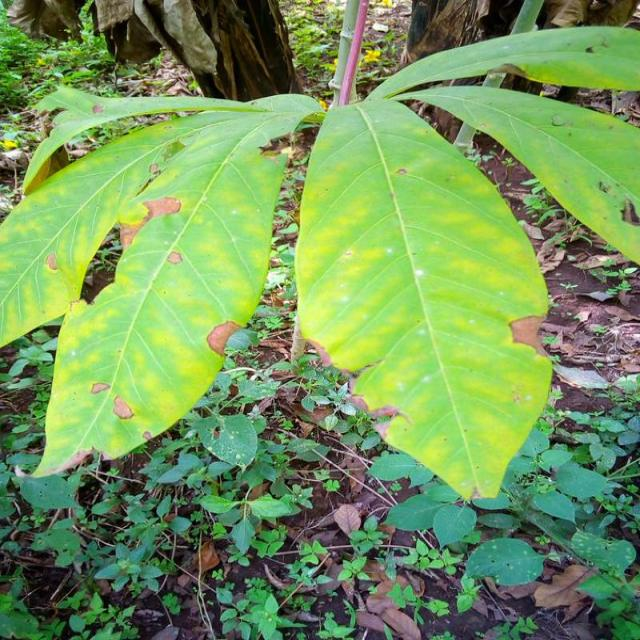cassava leaf: (0, 89, 322, 478), (294, 97, 552, 502)
